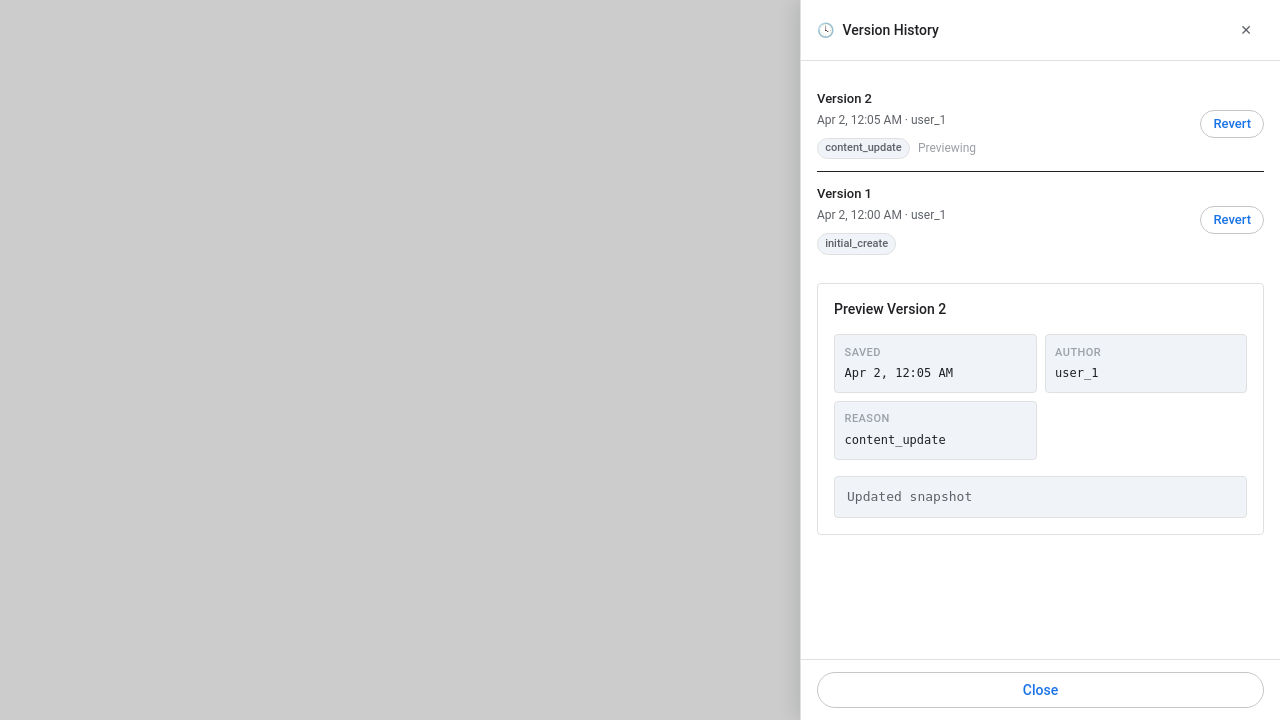
management panels › shows a preview for the selected version
The image size is (1280, 720).
Expected: the heading "Preview Version 2" is shown, [834, 300, 946, 318]
Expected: the text "Updated snapshot" is shown, [834, 476, 1247, 518]
What coordinates should you click on to do the following:
click the text "Version 1"
I would click on:
 (844, 194)
Its box is [817, 186, 872, 201].
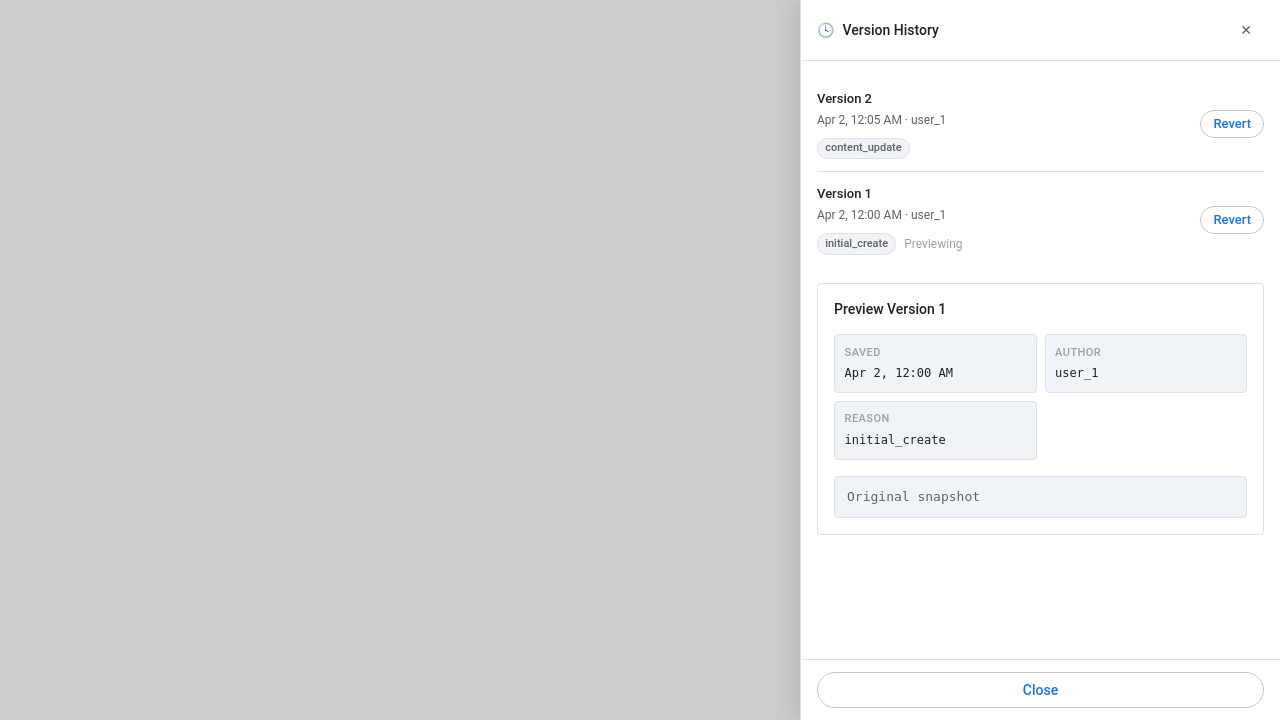
Expected: the heading "Preview Version 1" is shown, [834, 300, 946, 318]
Expected: the text "Original snapshot" is shown, [834, 476, 1247, 518]
